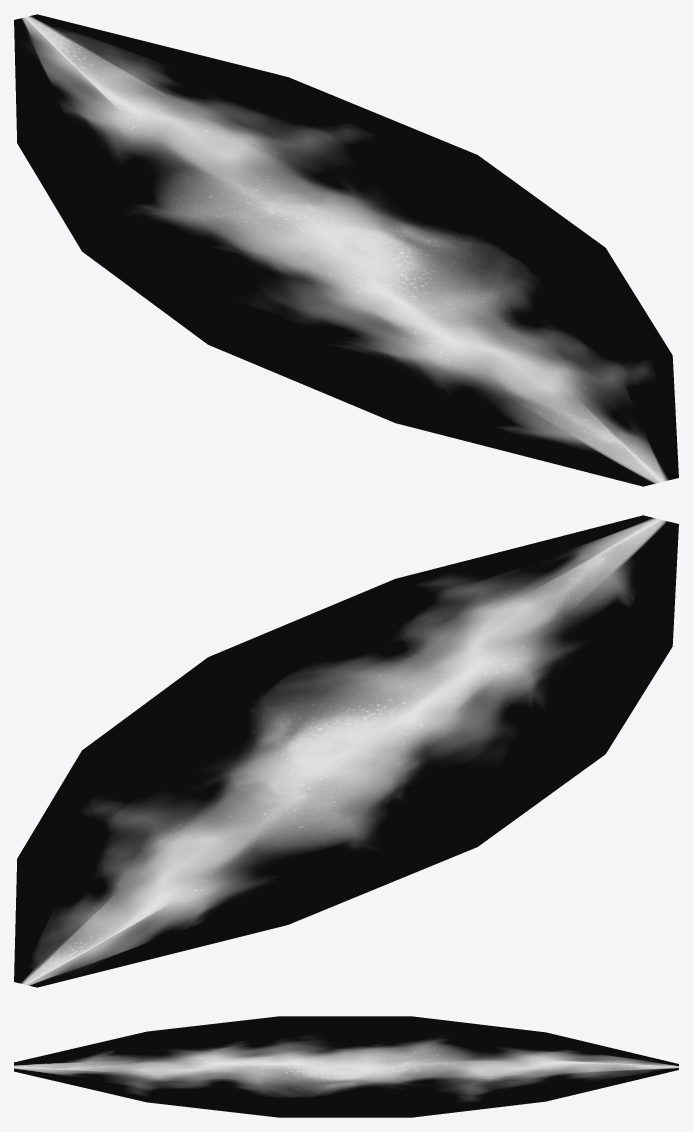
The model's file is SM_Leaf_Plane.FBX.
3 renders of one model, top to bottom at view 1: azimuth 30°, elevation 25°; view 2: azimuth 150°, elevation 25°; view 3: azimuth 270°, elevation 25°, orthographic. The views are drawn at different scales.
Parts seen in each view (by area): view 1: Leaf_Plane; view 2: Leaf_Plane; view 3: Leaf_Plane.
Boxes of the visible parts, bbox=[...] form: Leaf_Plane: bbox=[14, 14, 678, 486]; Leaf_Plane: bbox=[14, 515, 678, 987]; Leaf_Plane: bbox=[14, 1016, 678, 1117].
Size of the model in its own units: 143 by 0.000347 by 396.
